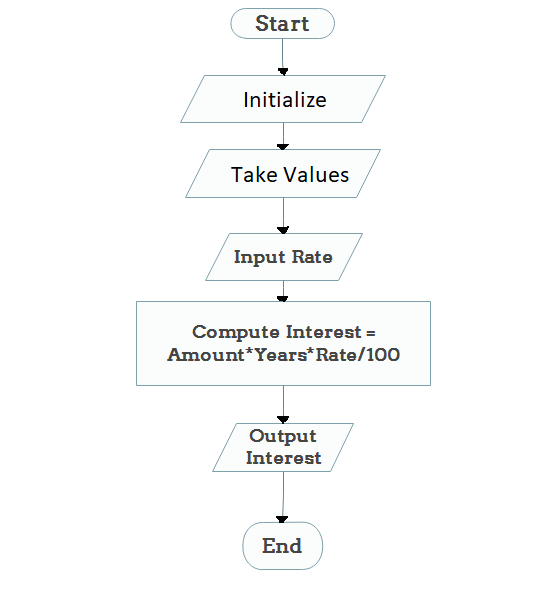arrow: (276, 472, 289, 524), (275, 196, 292, 234), (274, 385, 290, 422), (275, 119, 291, 152), (276, 39, 288, 74), (277, 276, 288, 302)
data: (178, 72, 388, 127), (183, 147, 384, 201), (202, 231, 364, 284), (211, 419, 355, 474)
process: (132, 298, 435, 388)
terminator: (239, 519, 326, 572), (228, 4, 337, 43)
text: (165, 320, 400, 368), (242, 427, 324, 468), (228, 162, 350, 187), (228, 247, 334, 267), (240, 90, 328, 111), (251, 13, 314, 35), (259, 533, 304, 557)
